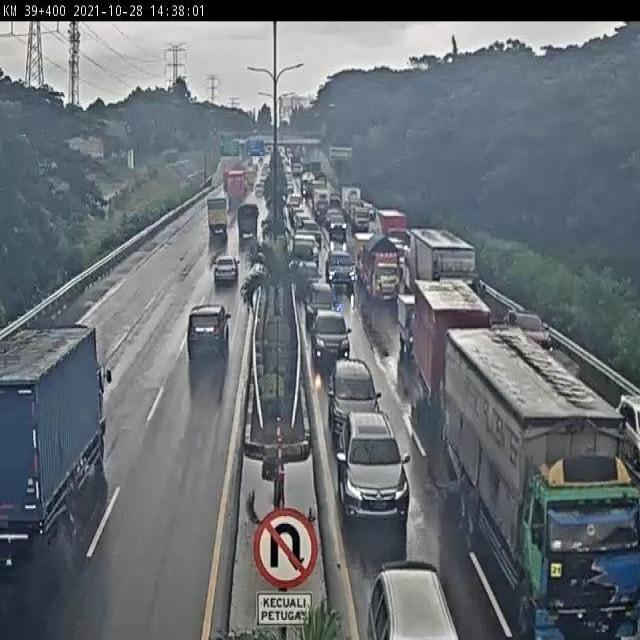car: (326, 250, 354, 290)
truck-l-: (446, 326, 640, 640), (408, 230, 477, 306)
truck-m-: (361, 236, 407, 307), (205, 196, 230, 239), (236, 204, 262, 239)
